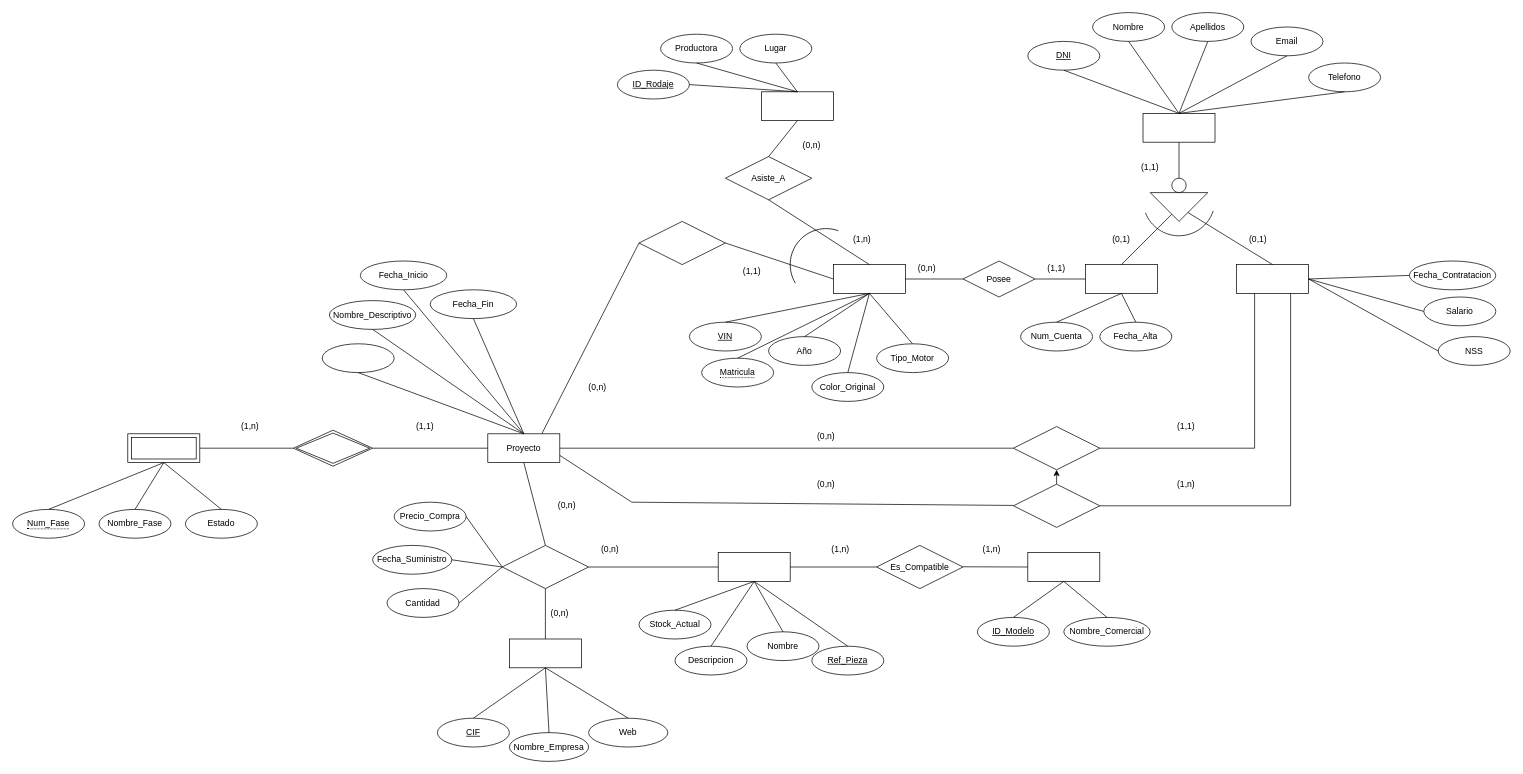
Some shapes in this 1523 by 774 pixel diagram are drawn without their labels. Each missing label, with the centre of its shape:
Cliente: [1121,278]
Empleado: [1272,278]
Fase: [163,448]
ID_Proyecto: [357,358]
Modelo_Catalogo: [1063,566]
Persona: [1178,127]
Pieza: [753,566]
Proveedor: [545,653]
Rodaje: [797,106]
Se_Divide_En: [333,447]
Sometido_A: [681,243]
Suministra: [545,567]
Supervisa: [1056,448]
Trabaja_En: [1056,505]
Vehiculo: [869,278]
